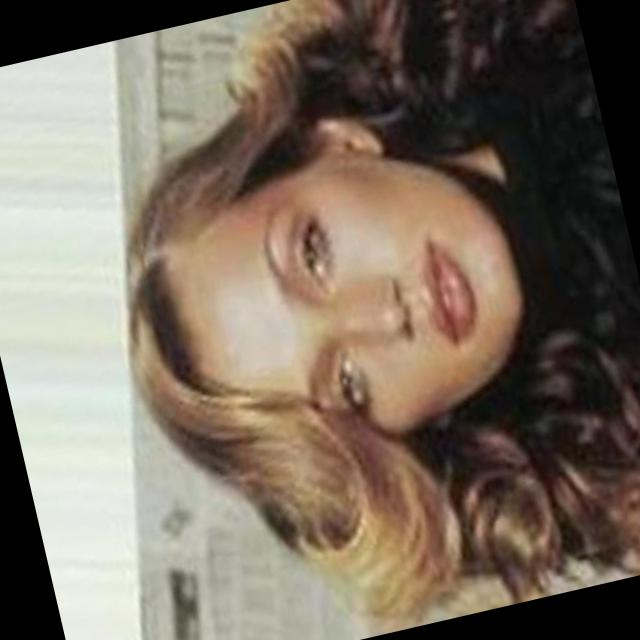bareface: (125, 83, 553, 495)
